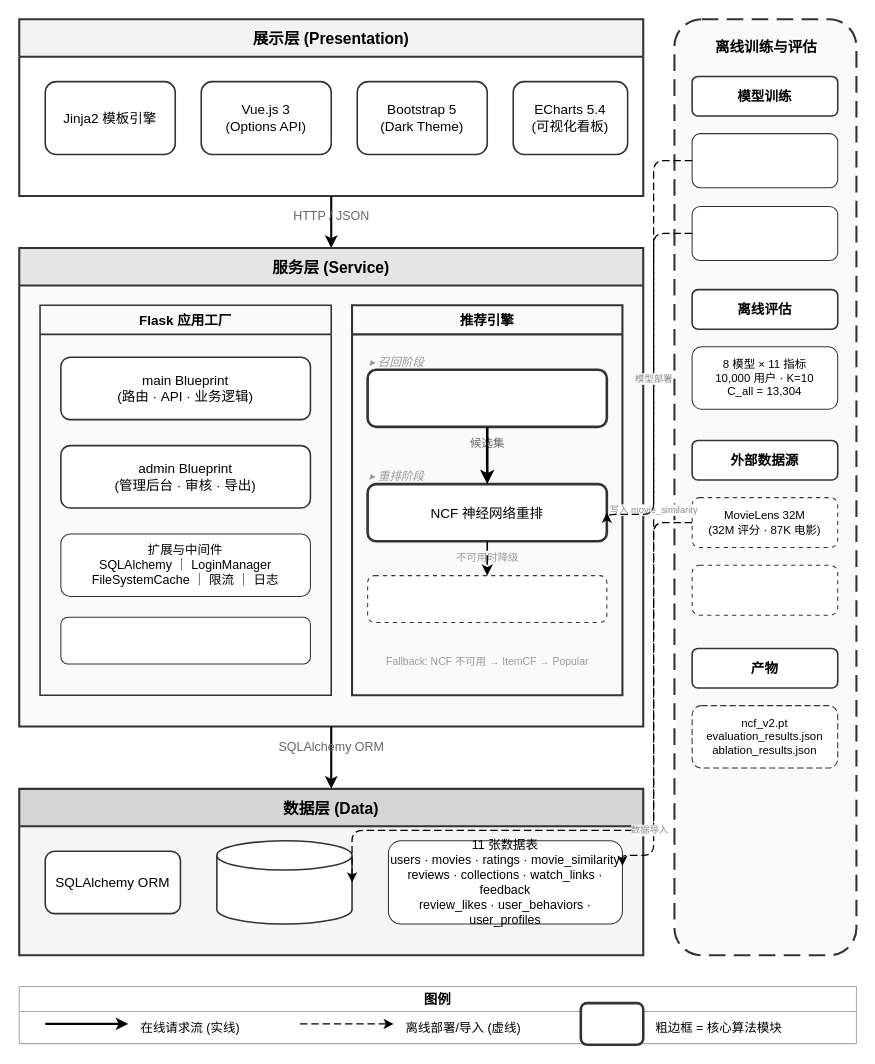
The diagram is 875 pixels wide and 1064 high, and some of its shapes have lost their labels. Each missing label, with the centre of its shape:
"ItemCF 余弦相似度 TopK=50" belongs at pixel 764 160.
"ItemCF 协同过滤召回" belongs at pixel 487 398.
"MySQL / SQLite" belongs at pixel 284 882.
"NCF (MLP) Embedding(64)+MLP" belongs at pixel 764 233.
"Popular 热门兜底" belongs at pixel 487 598.
"TMDB API (海报 · 元数据)" belongs at pixel 764 589.
"服务模块: 认证 ｜ 画像 ｜ 行为追踪" belongs at pixel 185 640.
